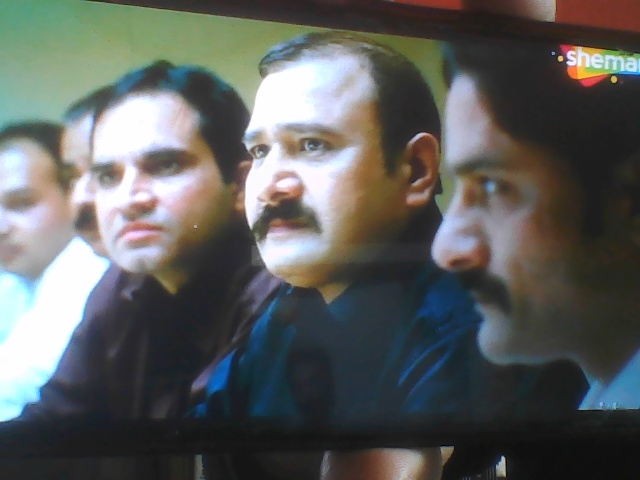fake: (233, 9, 428, 286), (75, 46, 245, 287)
